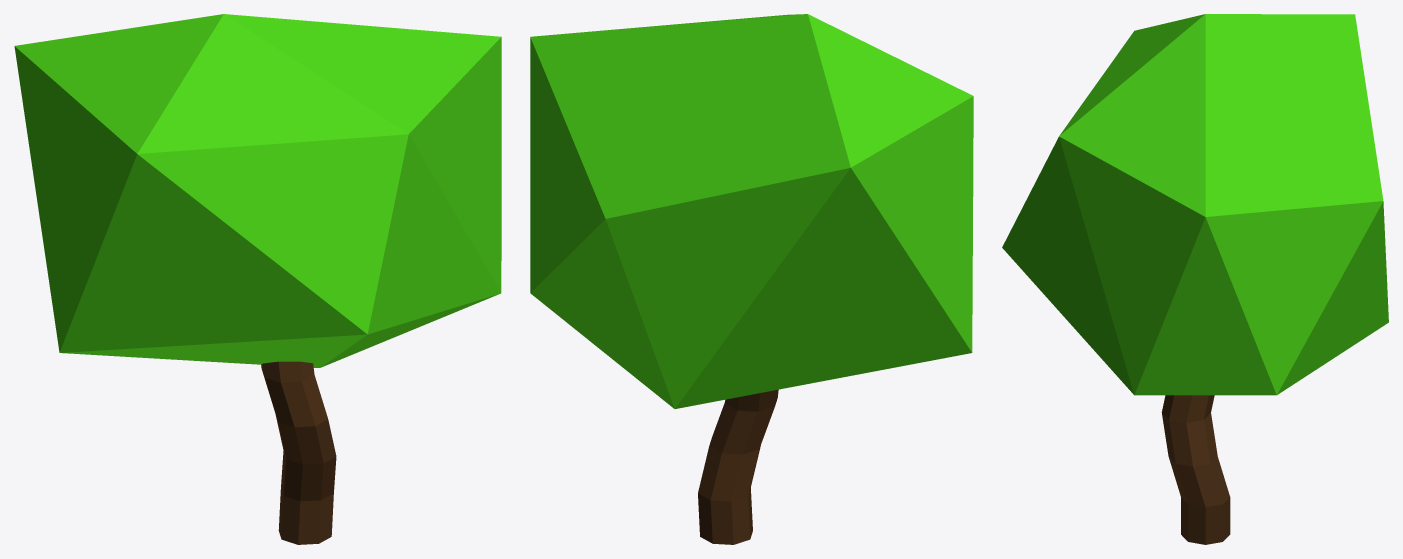
The model's file is bush.glb.
The picture shows the model from 3 angles, left to right: view 1: azimuth 30°, elevation 25°; view 2: azimuth 150°, elevation 25°; view 3: azimuth 270°, elevation 25°; orthographic projection. The views are drawn at different scales.
Parts seen in each view (by area): view 1: Icokugel; view 2: Icokugel; view 3: Icokugel.
Part boxes in pixels (x1,y1,x2,y2): Icokugel: (14,14,501,544); Icokugel: (530,14,973,544); Icokugel: (1002,14,1388,544).
Bounding box in the file's own units: 0.9715 × 1.13 × 0.8197.
